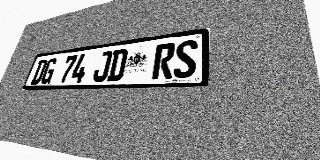4: (70, 53, 90, 83)
7: (58, 55, 78, 83)
D: (106, 48, 129, 81), (30, 59, 48, 84)
G: (39, 58, 58, 84)
J: (91, 50, 113, 82)
R: (151, 42, 176, 80)
S: (173, 39, 198, 79)
